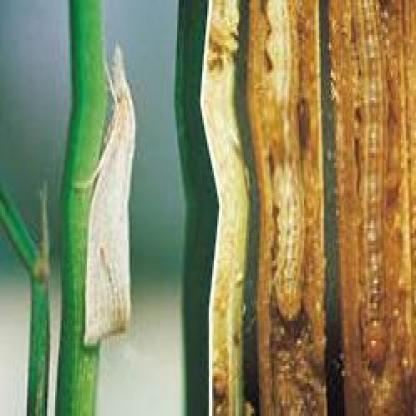stem-borer: (73, 41, 138, 352)
